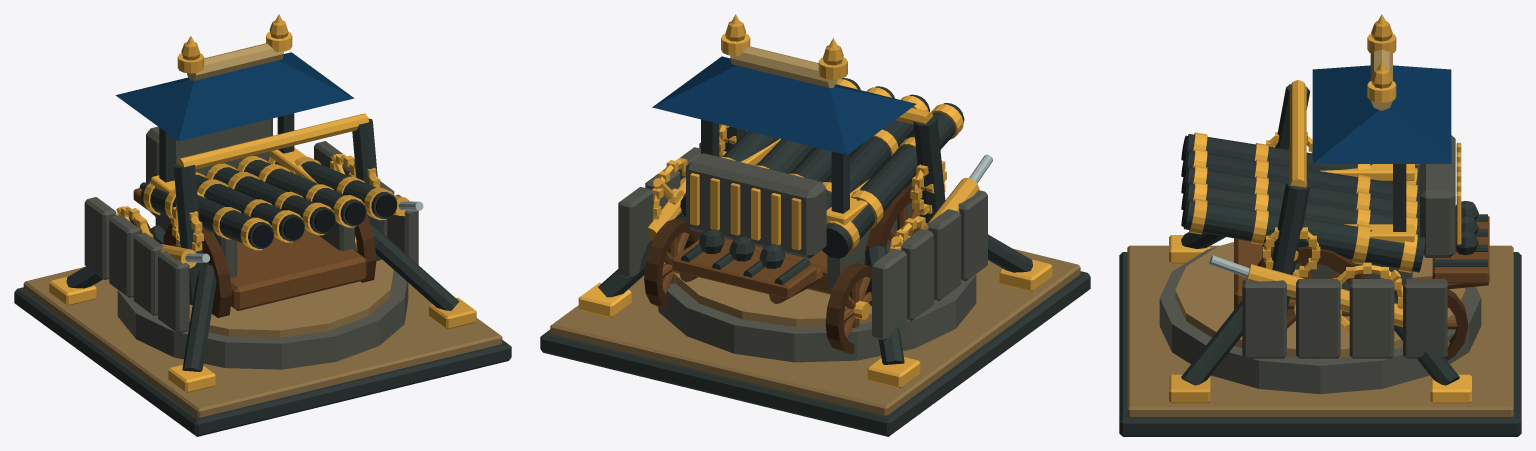
3 views of the same model, side by side, from view 1: azimuth 30°, elevation 25°; view 2: azimuth 150°, elevation 25°; view 3: azimuth 270°, elevation 25° (orthographic). The views are drawn at different scales.
Parts seen in each view (by area): view 1: cannon_level14_structure, cannon_level14_metal; view 2: cannon_level14_structure, cannon_level14_metal; view 3: cannon_level14_structure, cannon_level14_metal.
Part boxes in pixels (box(x1,y1,x2,y2)): cannon_level14_structure: box(14, 21, 511, 436); cannon_level14_metal: box(49, 14, 476, 392); cannon_level14_structure: box(540, 21, 1090, 436); cannon_level14_metal: box(578, 14, 1052, 388); cannon_level14_structure: box(1119, 21, 1521, 436); cannon_level14_metal: box(1169, 14, 1471, 403).
Bounding box in the file's own units: 3.6 × 3.12 × 3.6.
